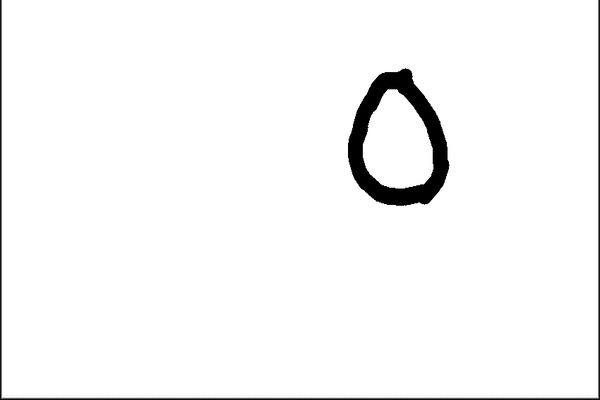O: (333, 59, 465, 219)
